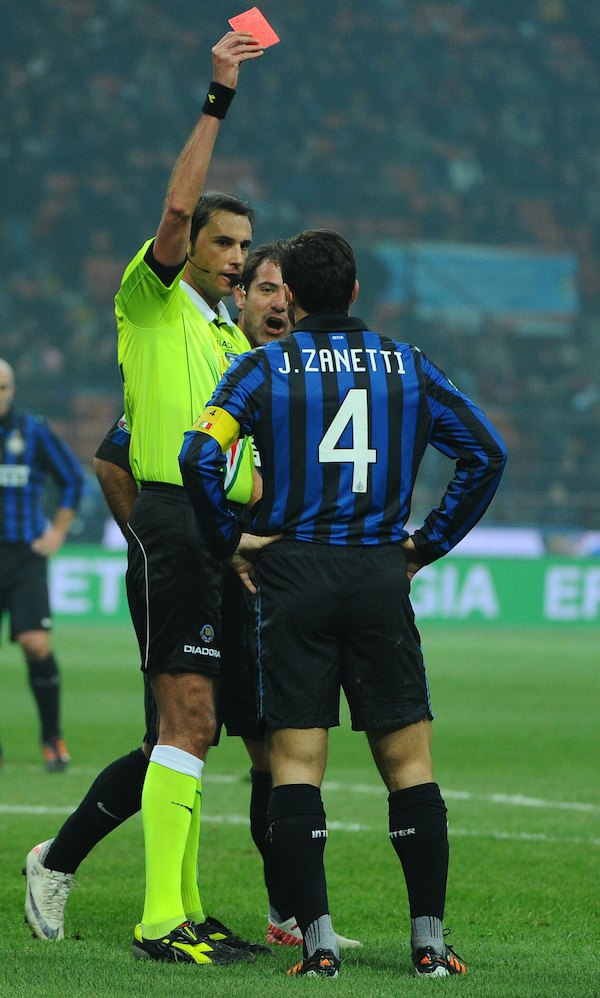red_card: (188, 3, 285, 94)
